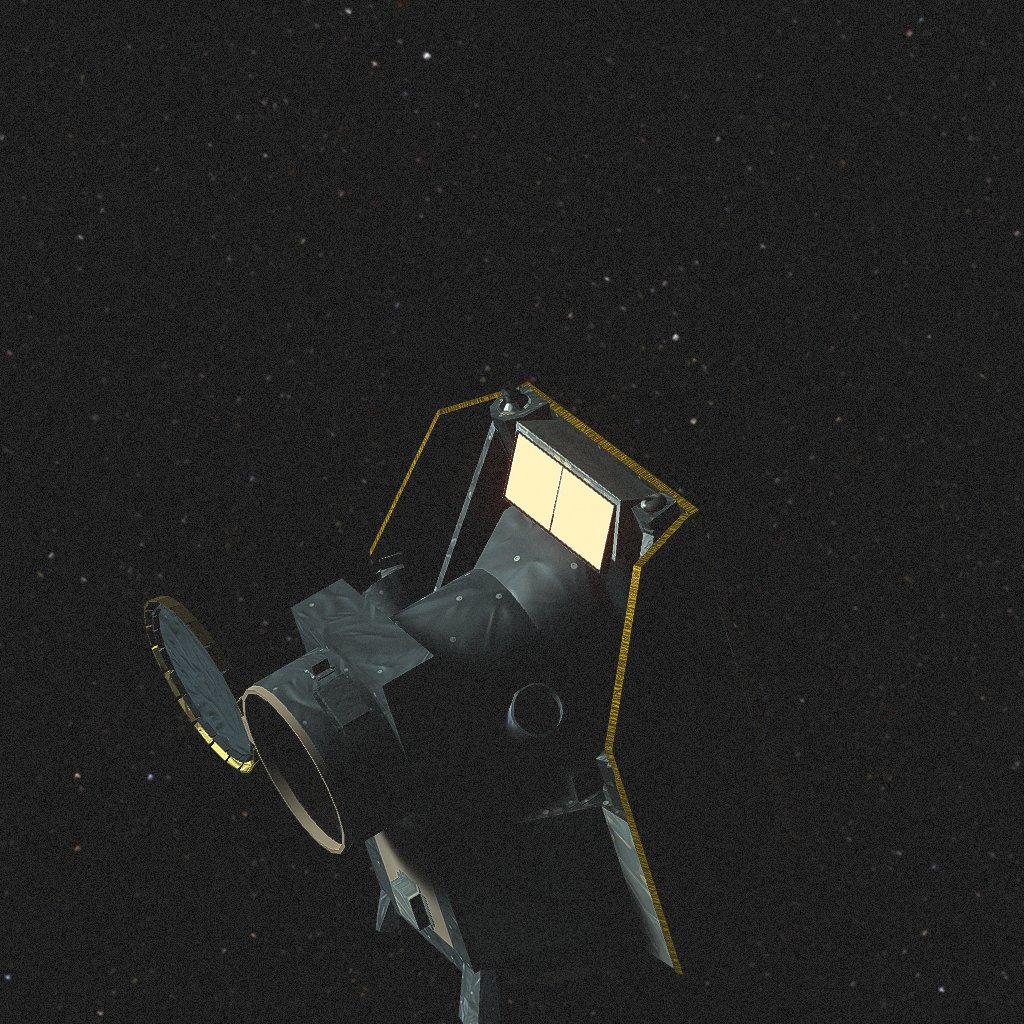cheops: (144, 382, 800, 1024)
